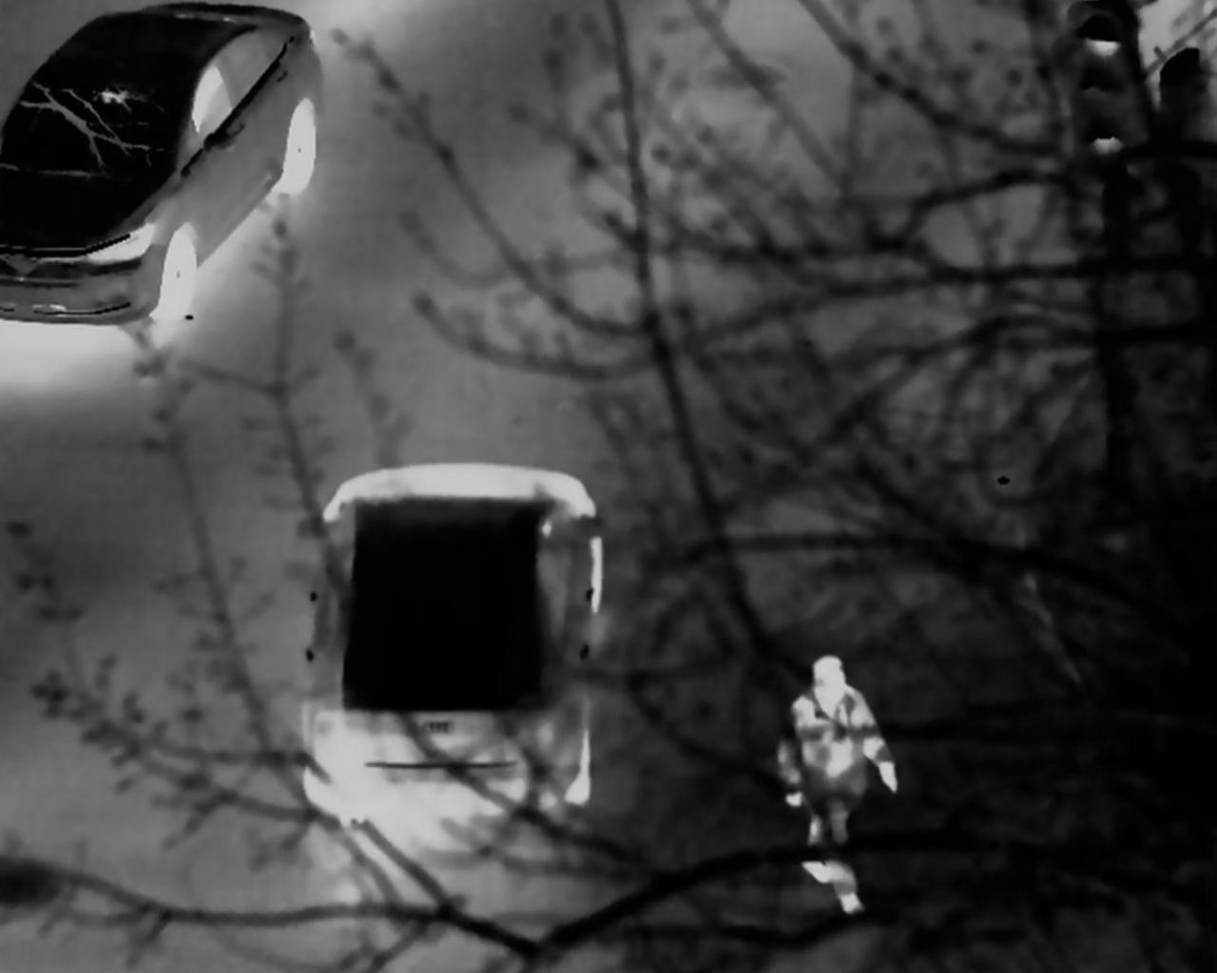person: (782, 658, 902, 913)
